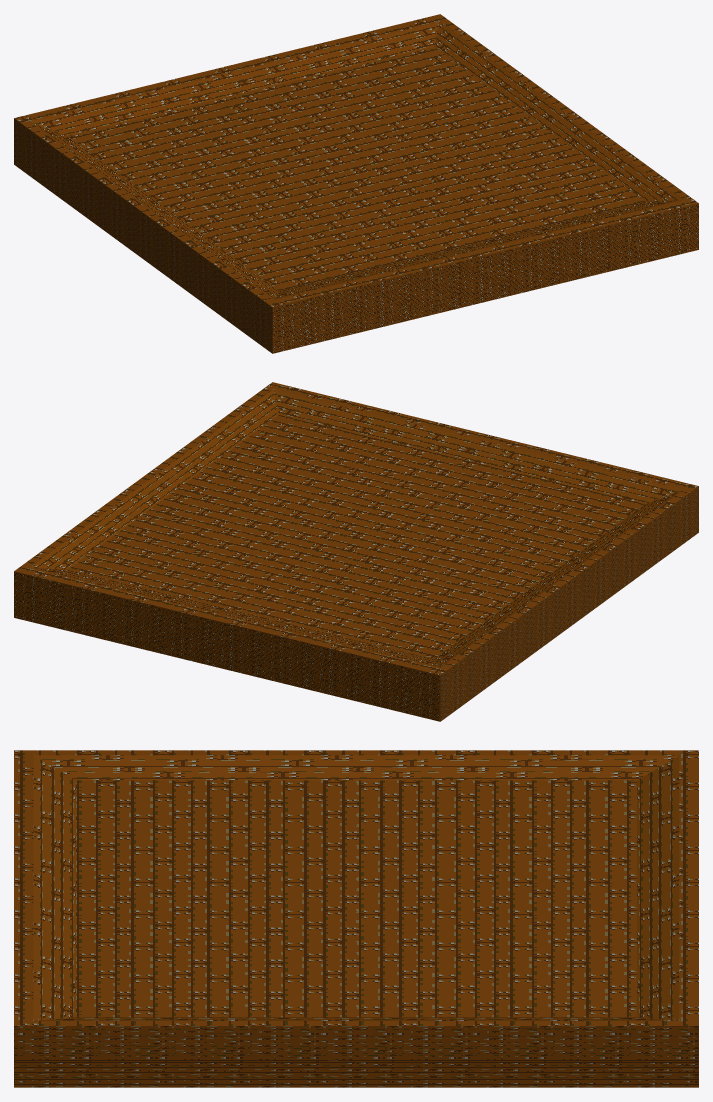
Rendered from floor.obj.
3 views of the same model, one above another, from view 1: azimuth 30°, elevation 25°; view 2: azimuth 150°, elevation 25°; view 3: azimuth 270°, elevation 25° (orthographic). The views are drawn at different scales.
Visible parts, largest first — view 1: Cube_Cube.002; view 2: Cube_Cube.002; view 3: Cube_Cube.002.
Part boxes in pixels (x1,y1,x2,y2): Cube_Cube.002: [14, 14, 698, 353]; Cube_Cube.002: [14, 382, 698, 721]; Cube_Cube.002: [14, 750, 698, 1087].
Bounding box in the file's own units: 23.27 × 2.42 × 24.43.
